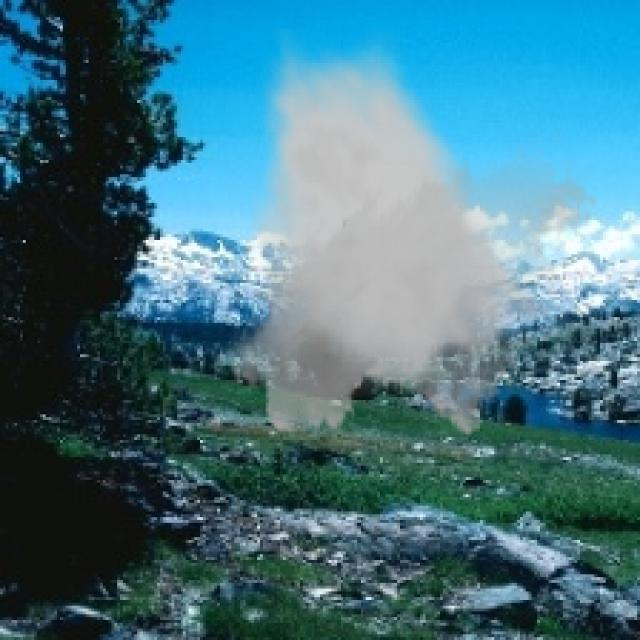Smoke: (217, 28, 600, 446)
